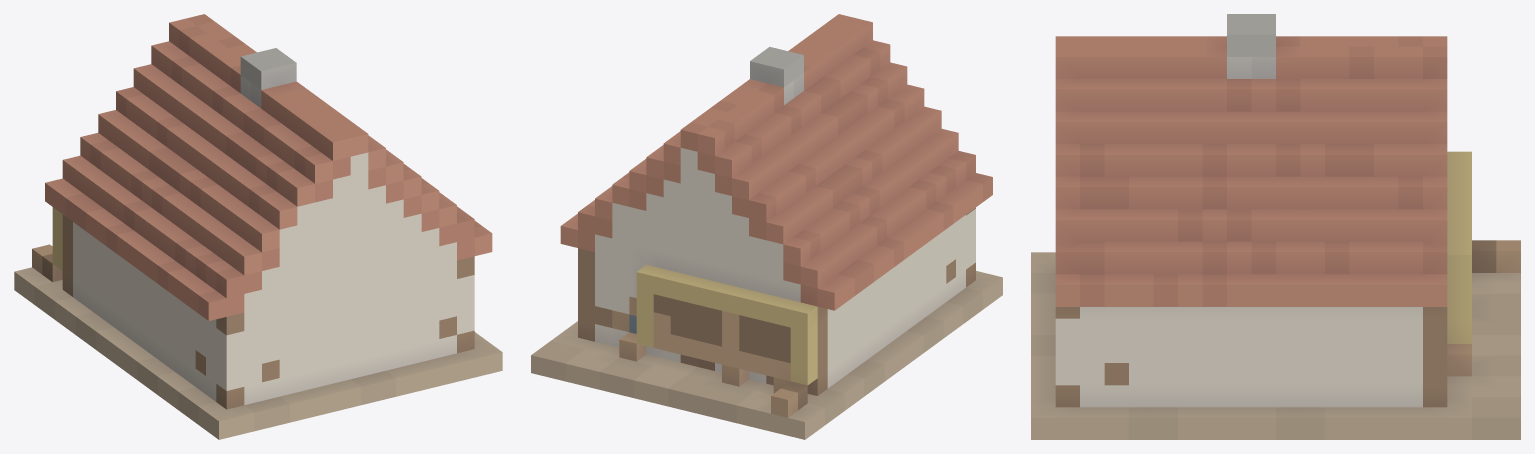
The model's file is weaver_linen.lite.glb.
3 renders of one model, left to right at view 1: azimuth 30°, elevation 25°; view 2: azimuth 150°, elevation 25°; view 3: azimuth 270°, elevation 25°, orthographic. The views are drawn at different scales.
Parts seen in each view (by area): view 1: weaver_linen; view 2: weaver_linen; view 3: weaver_linen.
Part boxes in pixels (x1,y1,x2,y2): weaver_linen: (14, 14, 502, 439); weaver_linen: (531, 14, 1002, 439); weaver_linen: (1031, 14, 1520, 439).
Bounding box in the file's own units: 4 × 3.75 × 5.
